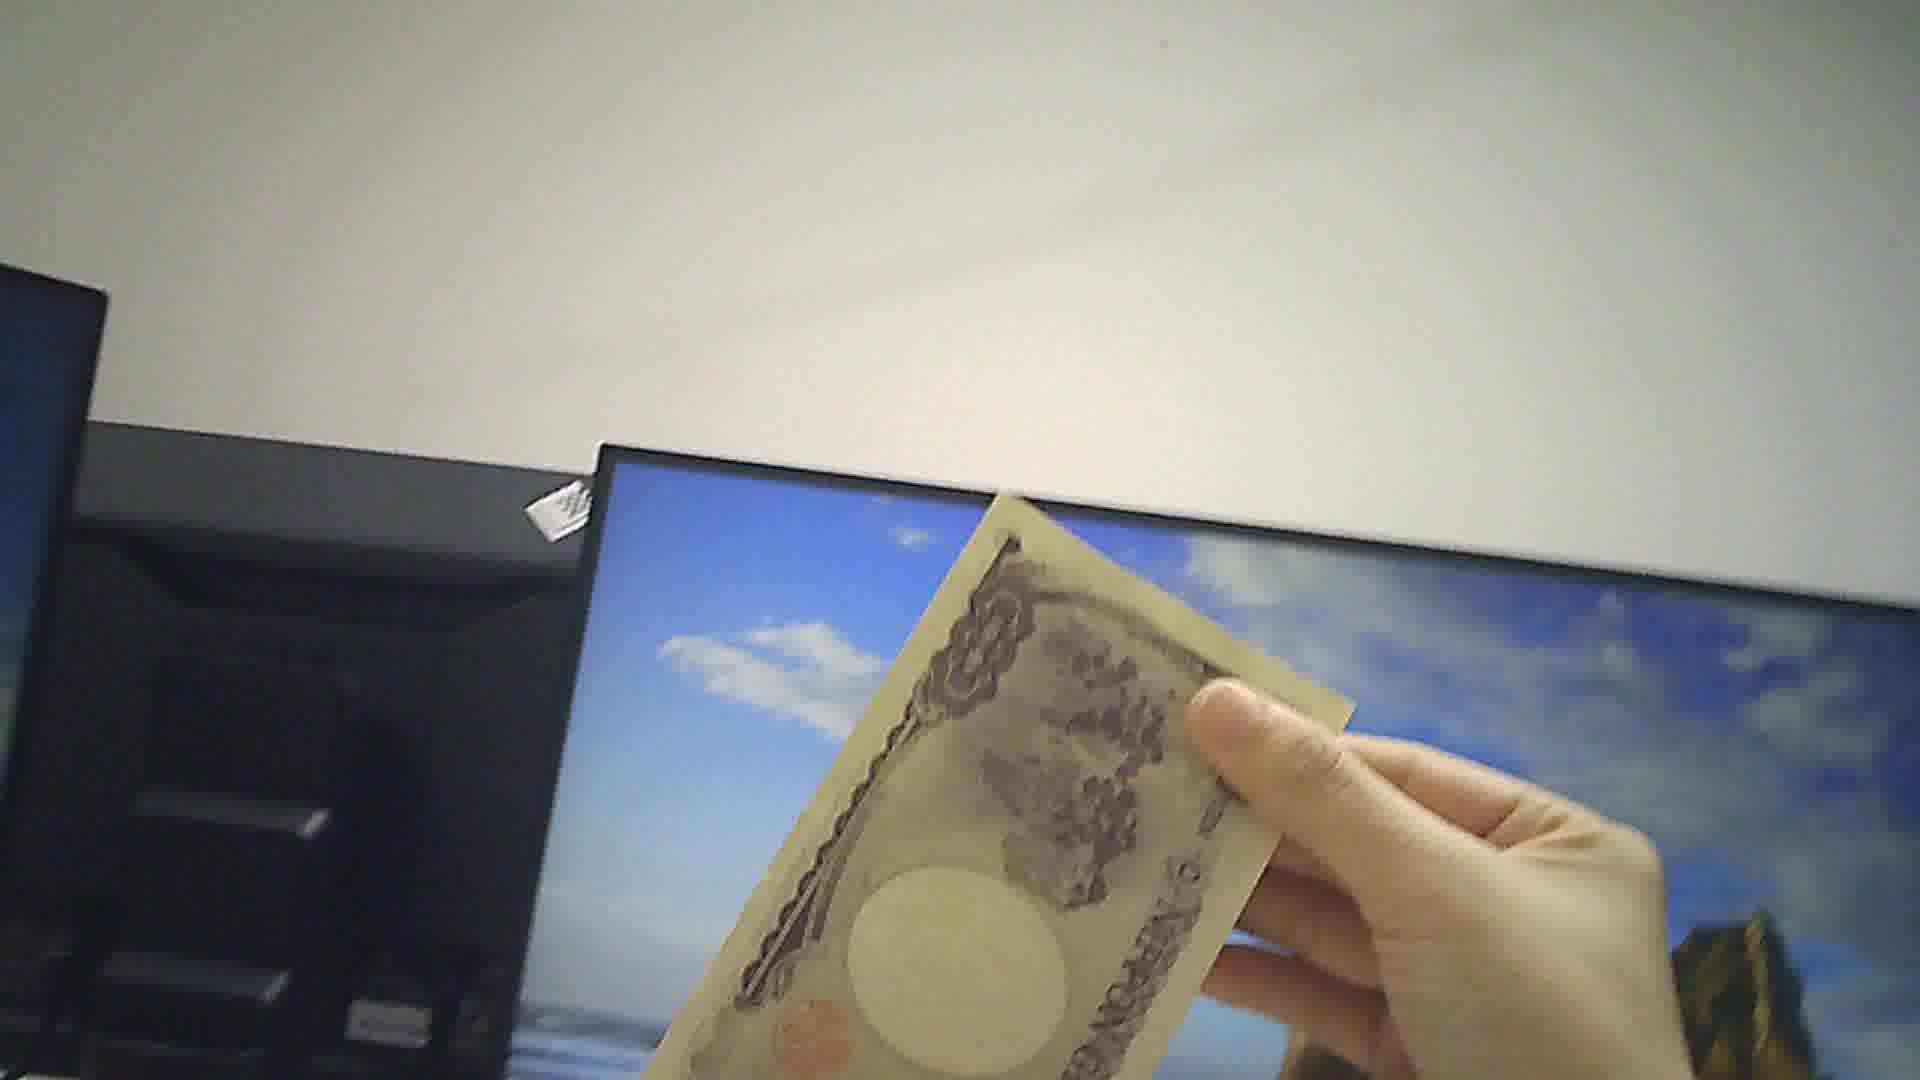5,000 Yen: (669, 488, 1338, 1077)
